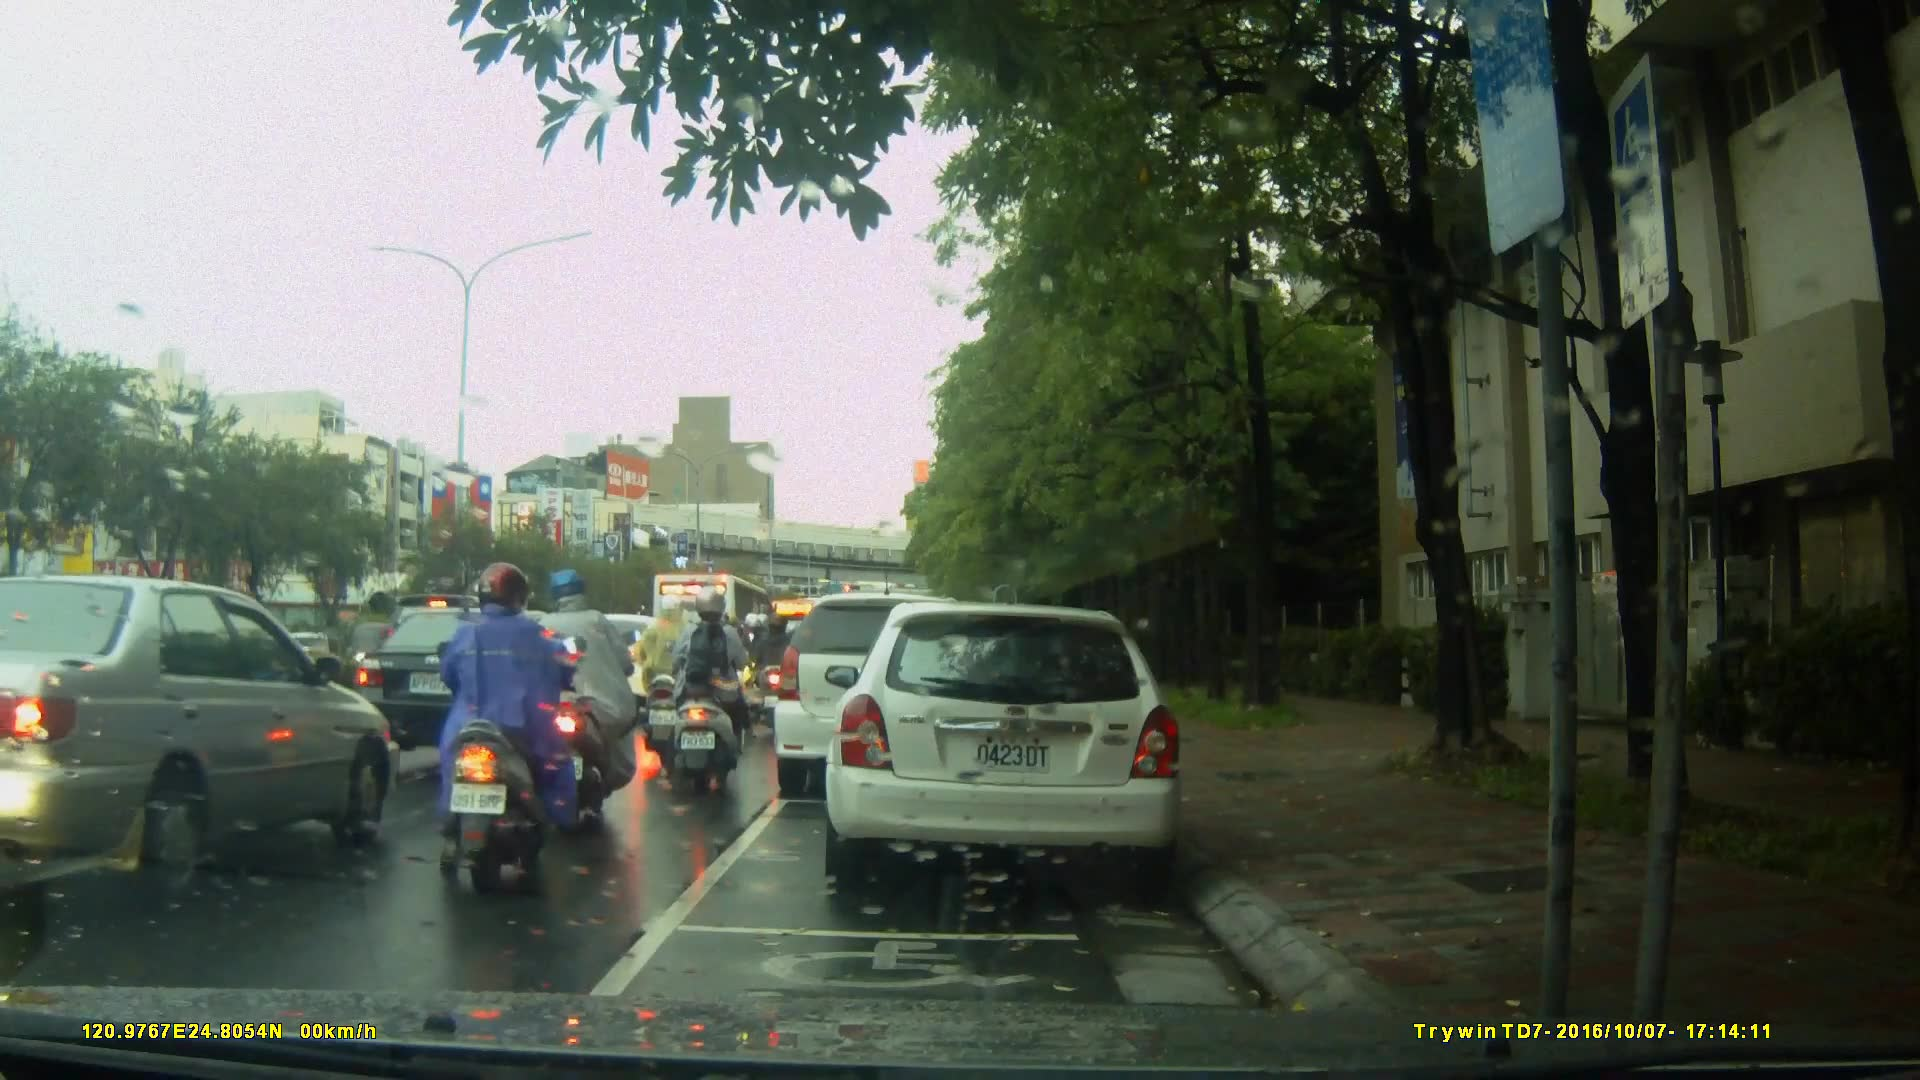rider: (439, 562, 589, 904), (525, 565, 634, 827), (663, 591, 743, 783), (625, 601, 707, 759), (746, 612, 793, 734)
vehicle: (1, 573, 406, 913), (831, 592, 1196, 897), (768, 592, 999, 801), (351, 606, 572, 757), (648, 571, 781, 703), (537, 613, 672, 722)
